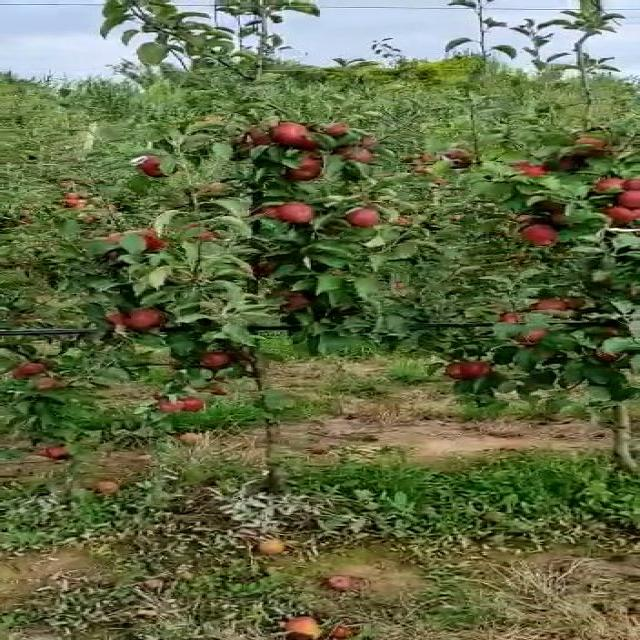100-_ripeness: (273, 200, 316, 228), (118, 307, 167, 330), (273, 120, 307, 147), (344, 205, 382, 229), (514, 222, 552, 246), (135, 155, 178, 176), (591, 174, 633, 194), (600, 204, 638, 222), (200, 352, 231, 371), (174, 395, 206, 410), (453, 365, 485, 379)
